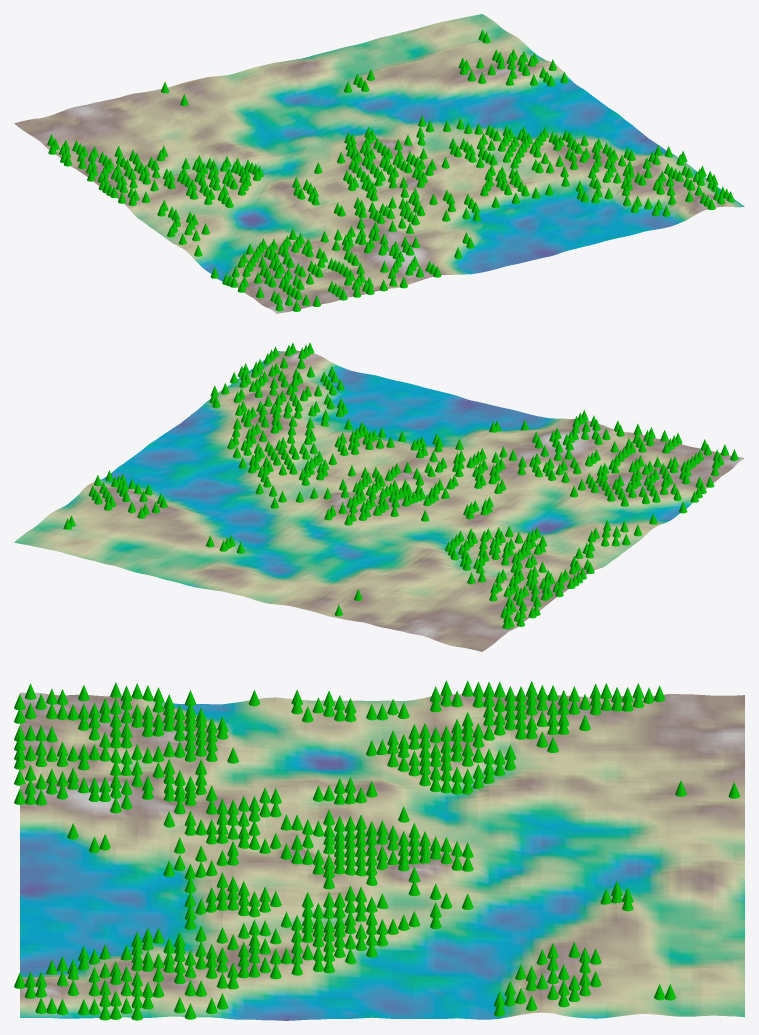
The model's file is 000002_with_tree.glb.
3 renders of one model, top to bottom at view 1: azimuth 30°, elevation 25°; view 2: azimuth 150°, elevation 25°; view 3: azimuth 270°, elevation 25°, orthographic. The views are drawn at different scales.
Parts seen in each view (by area): view 1: terrain, trees; view 2: terrain, trees; view 3: terrain, trees.
Part boxes in pixels (x1,y1,x2,y2): terrain: (14,14,744,313); trees: (47,29,734,311); terrain: (14,350,744,651); trees: (63,342,738,628); terrain: (20,692,744,1020); trees: (14,680,739,1020).
Size of the model in its own units: 0.0192 by 0.0008 by 0.0185.
